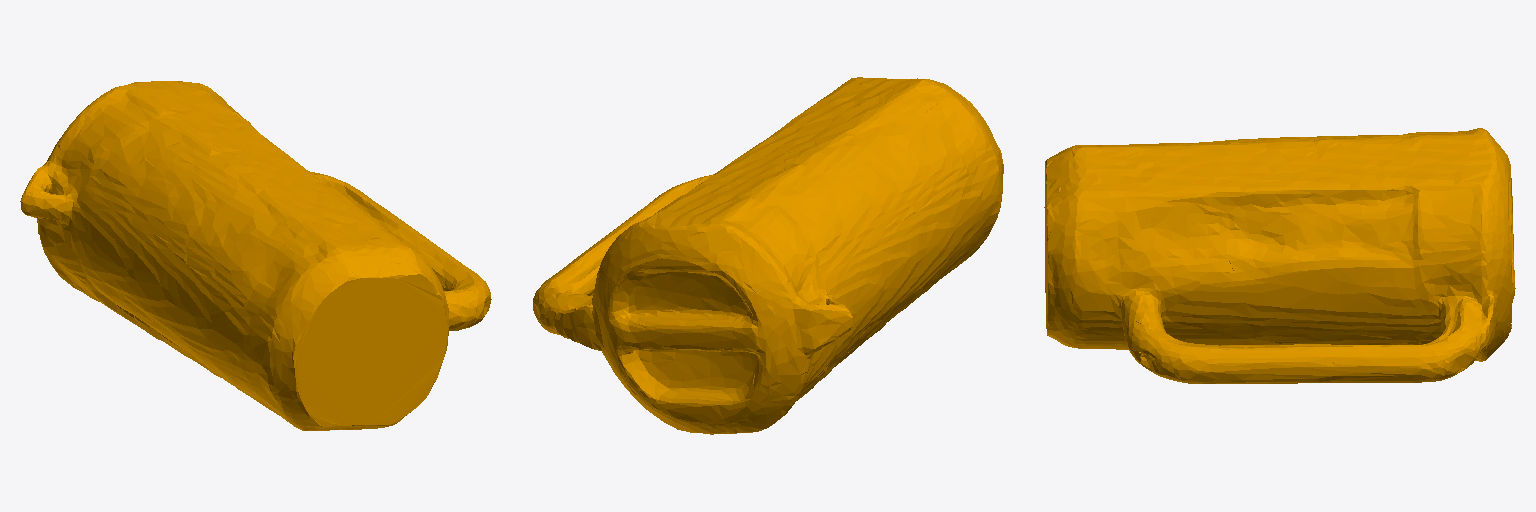
URDF robot description (kettleblack):
<?xml version="1.0" ?>
<!-- auto-generated by gen_object_urdf.py (TactiDex import) -->
<robot name="kettleblack">
  <link name="bottom">
    <inertial>
      <origin rpy="0 0 0" xyz="-0.00079561032 -0.0090352151 0.00045943878"/>
      <mass value="0.8"/>
      <inertia ixx="0.0049707927" ixy="6.3949134e-05" ixz="0.00018115971"
               iyy="0.0022321519" iyz="1.8170872e-06" izz="0.0058099344"/>
    </inertial>
    <visual>
      <origin rpy="0 0 0" xyz="0 0 0"/>
      <geometry><mesh filename="KettleBlack.obj" scale="1 1 1"/></geometry>
    </visual>
      <collision>
        <origin rpy="0 0 0" xyz="0 0 0"/>
        <geometry><mesh filename="collision_parts/part_000.obj" scale="1 1 1"/></geometry>
      </collision>
      <collision>
        <origin rpy="0 0 0" xyz="0 0 0"/>
        <geometry><mesh filename="collision_parts/part_001.obj" scale="1 1 1"/></geometry>
      </collision>
      <collision>
        <origin rpy="0 0 0" xyz="0 0 0"/>
        <geometry><mesh filename="collision_parts/part_002.obj" scale="1 1 1"/></geometry>
      </collision>
      <collision>
        <origin rpy="0 0 0" xyz="0 0 0"/>
        <geometry><mesh filename="collision_parts/part_003.obj" scale="1 1 1"/></geometry>
      </collision>
      <collision>
        <origin rpy="0 0 0" xyz="0 0 0"/>
        <geometry><mesh filename="collision_parts/part_004.obj" scale="1 1 1"/></geometry>
      </collision>
      <collision>
        <origin rpy="0 0 0" xyz="0 0 0"/>
        <geometry><mesh filename="collision_parts/part_005.obj" scale="1 1 1"/></geometry>
      </collision>
      <collision>
        <origin rpy="0 0 0" xyz="0 0 0"/>
        <geometry><mesh filename="collision_parts/part_006.obj" scale="1 1 1"/></geometry>
      </collision>
      <collision>
        <origin rpy="0 0 0" xyz="0 0 0"/>
        <geometry><mesh filename="collision_parts/part_007.obj" scale="1 1 1"/></geometry>
      </collision>
      <collision>
        <origin rpy="0 0 0" xyz="0 0 0"/>
        <geometry><mesh filename="collision_parts/part_008.obj" scale="1 1 1"/></geometry>
      </collision>
      <collision>
        <origin rpy="0 0 0" xyz="0 0 0"/>
        <geometry><mesh filename="collision_parts/part_009.obj" scale="1 1 1"/></geometry>
      </collision>
      <collision>
        <origin rpy="0 0 0" xyz="0 0 0"/>
        <geometry><mesh filename="collision_parts/part_010.obj" scale="1 1 1"/></geometry>
      </collision>
      <collision>
        <origin rpy="0 0 0" xyz="0 0 0"/>
        <geometry><mesh filename="collision_parts/part_011.obj" scale="1 1 1"/></geometry>
      </collision>
      <collision>
        <origin rpy="0 0 0" xyz="0 0 0"/>
        <geometry><mesh filename="collision_parts/part_012.obj" scale="1 1 1"/></geometry>
      </collision>
      <collision>
        <origin rpy="0 0 0" xyz="0 0 0"/>
        <geometry><mesh filename="collision_parts/part_013.obj" scale="1 1 1"/></geometry>
      </collision>
      <collision>
        <origin rpy="0 0 0" xyz="0 0 0"/>
        <geometry><mesh filename="collision_parts/part_014.obj" scale="1 1 1"/></geometry>
      </collision>
      <collision>
        <origin rpy="0 0 0" xyz="0 0 0"/>
        <geometry><mesh filename="collision_parts/part_015.obj" scale="1 1 1"/></geometry>
      </collision>
      <collision>
        <origin rpy="0 0 0" xyz="0 0 0"/>
        <geometry><mesh filename="collision_parts/part_016.obj" scale="1 1 1"/></geometry>
      </collision>
      <collision>
        <origin rpy="0 0 0" xyz="0 0 0"/>
        <geometry><mesh filename="collision_parts/part_017.obj" scale="1 1 1"/></geometry>
      </collision>
      <collision>
        <origin rpy="0 0 0" xyz="0 0 0"/>
        <geometry><mesh filename="collision_parts/part_018.obj" scale="1 1 1"/></geometry>
      </collision>
      <collision>
        <origin rpy="0 0 0" xyz="0 0 0"/>
        <geometry><mesh filename="collision_parts/part_019.obj" scale="1 1 1"/></geometry>
      </collision>
      <collision>
        <origin rpy="0 0 0" xyz="0 0 0"/>
        <geometry><mesh filename="collision_parts/part_020.obj" scale="1 1 1"/></geometry>
      </collision>
      <collision>
        <origin rpy="0 0 0" xyz="0 0 0"/>
        <geometry><mesh filename="collision_parts/part_021.obj" scale="1 1 1"/></geometry>
      </collision>
      <collision>
        <origin rpy="0 0 0" xyz="0 0 0"/>
        <geometry><mesh filename="collision_parts/part_022.obj" scale="1 1 1"/></geometry>
      </collision>
      <collision>
        <origin rpy="0 0 0" xyz="0 0 0"/>
        <geometry><mesh filename="collision_parts/part_023.obj" scale="1 1 1"/></geometry>
      </collision>
  </link>
</robot>

--- What the picture shows (computed from the rendered views, not written in the file) ---
The picture shows the robot from 3 angles, left to right: view 1: azimuth 30°, elevation 25°; view 2: azimuth 150°, elevation 25°; view 3: azimuth 270°, elevation 25°; orthographic projection.
Model kettleblack with 1 links and 0 joints (none), rooted at bottom, posed every joint at zero.
Visible links, largest first — view 1: bottom; view 2: bottom; view 3: bottom.
Link boxes in pixels (x1,y1,x2,y2): bottom: (20,81,491,430); bottom: (533,77,1003,434); bottom: (1044,128,1515,383).
Size in the robot's own frame: 0.2116 by 0.2709 by 0.1311 metres.
1 mesh visuals loaded from 1 distinct referenced files (1 OBJ).
